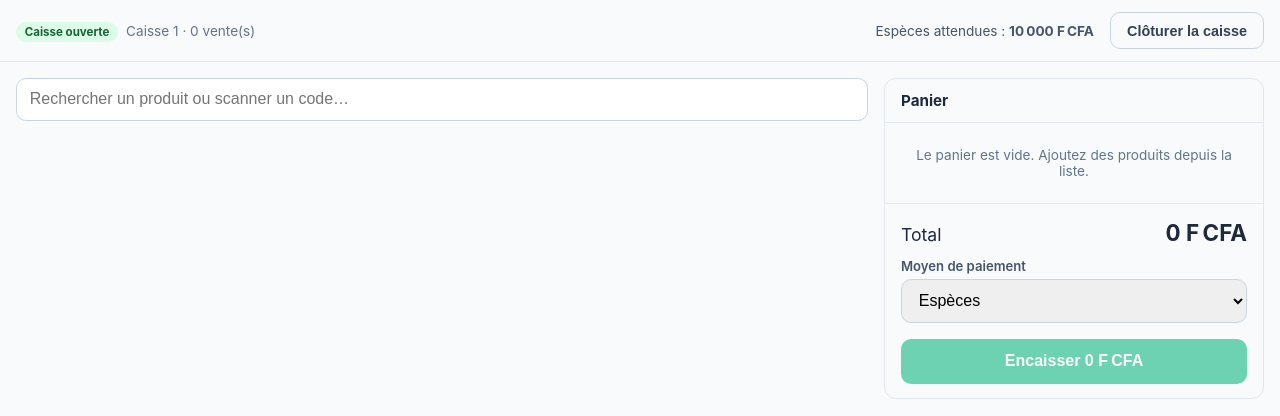
Test: PosView › adds a scanned product to the cart and totals it in major units (÷100)
Type "SAV-1" into the field with test id "product-search" at x=442, y=99, box [16, 78, 868, 121]
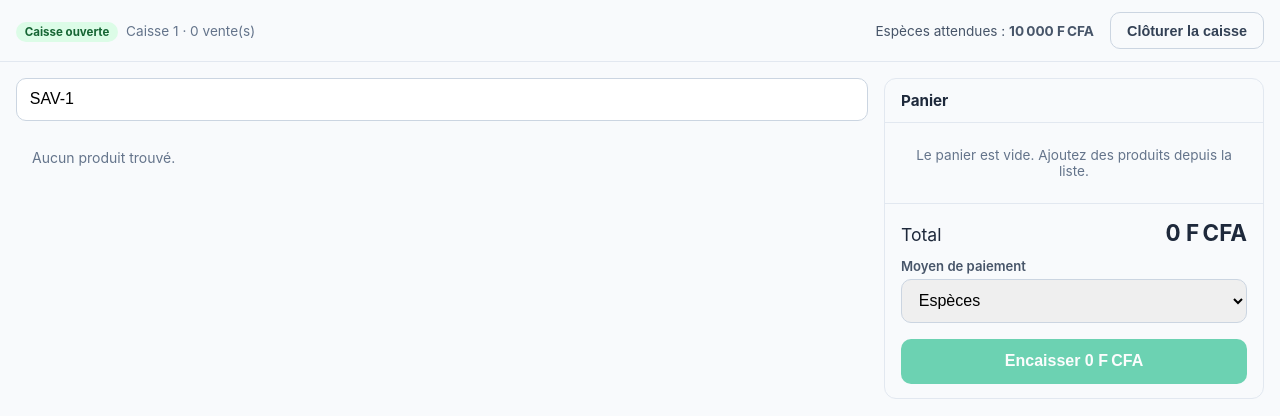
Press Enter in the field with test id "product-search", box [16, 78, 868, 121]
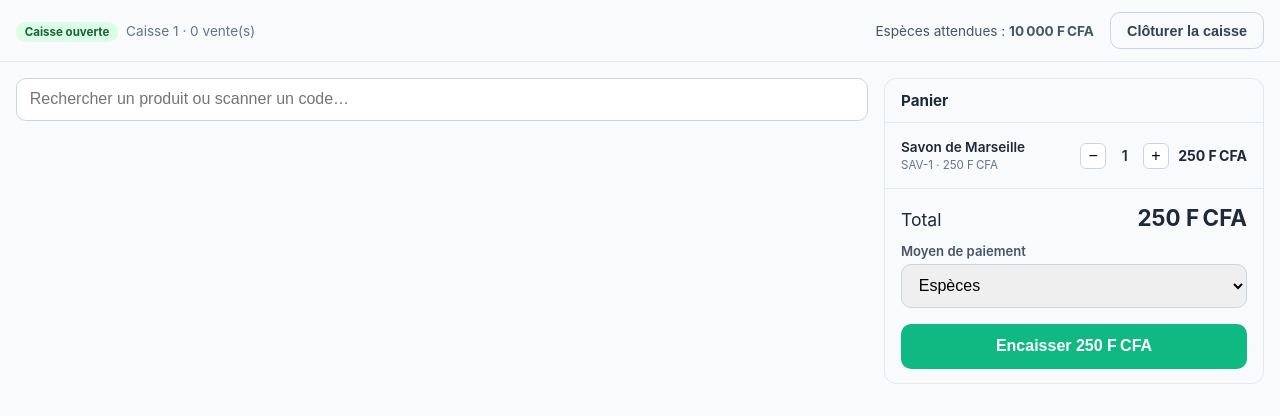
Now the text with test id "qty-0" reads "1", box [1122, 147, 1128, 164]
